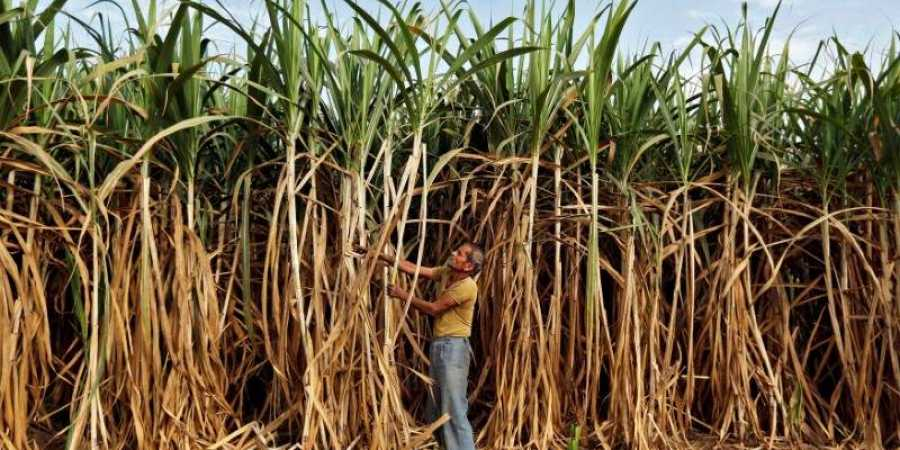sugarcane: (507, 6, 900, 437), (4, 1, 384, 436)
